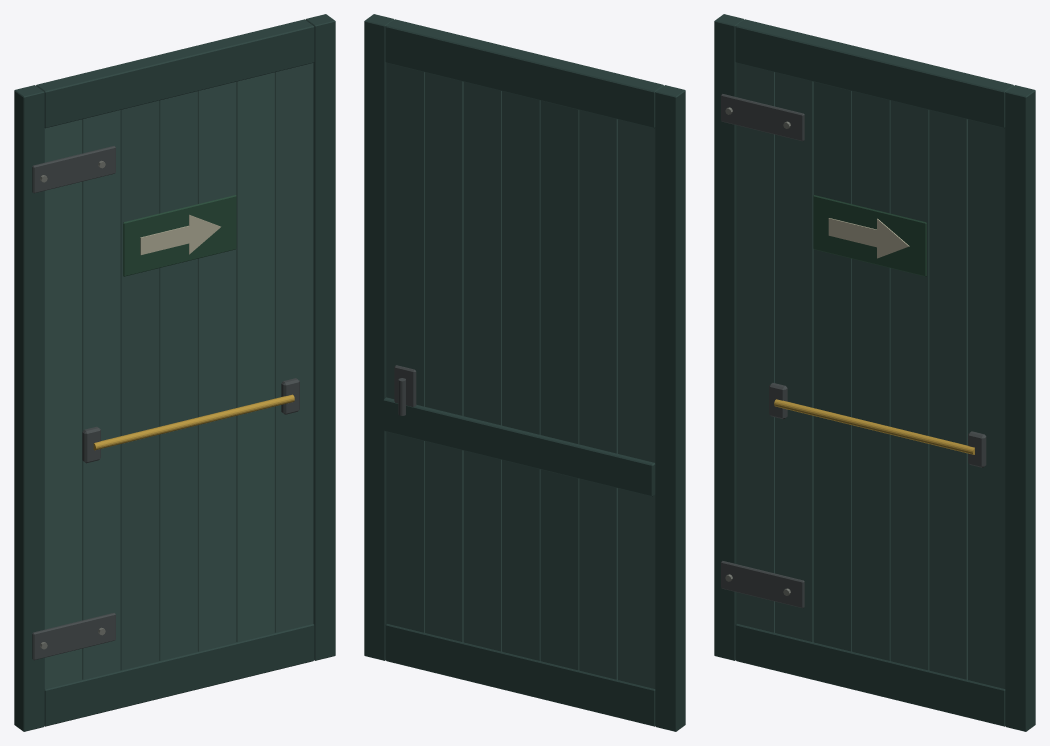
File: SM_Henhouse_Door_A.fbx
3 renders of one model, left to right at view 1: azimuth 30°, elevation 25°; view 2: azimuth 150°, elevation 25°; view 3: azimuth 330°, elevation 25°, orthographic.
Parts seen in each view (by area): view 1: SM_Henhouse_Door_A; view 2: SM_Henhouse_Door_A; view 3: SM_Henhouse_Door_A.
Boxes of the visible parts, x1=… form: SM_Henhouse_Door_A: x1=14, y1=14, x2=335, y2=731; SM_Henhouse_Door_A: x1=364, y1=14, x2=685, y2=731; SM_Henhouse_Door_A: x1=714, y1=14, x2=1035, y2=731.
Size of what is drawn, in the model's own units: 16 by 132 by 256.
